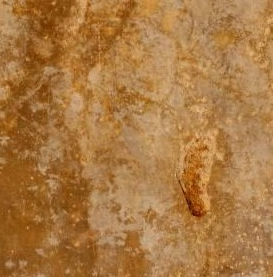Exposed reinforcement: (183, 143, 210, 217)
Spalling: (175, 133, 215, 219)
